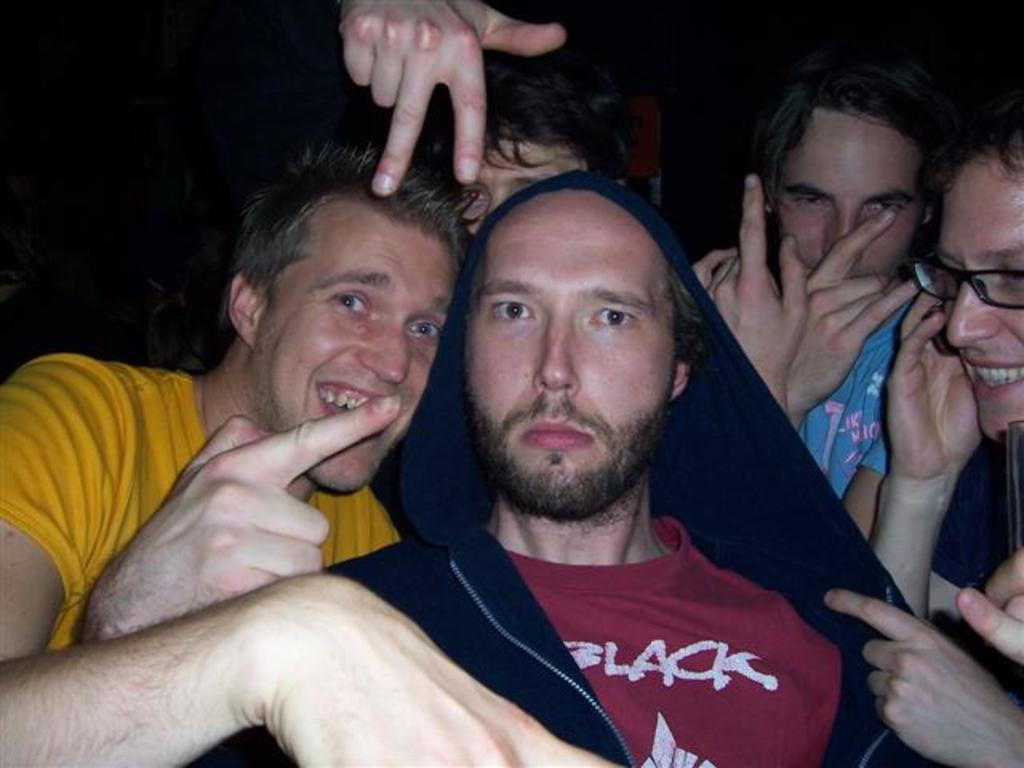person: (0, 159, 109, 403)
